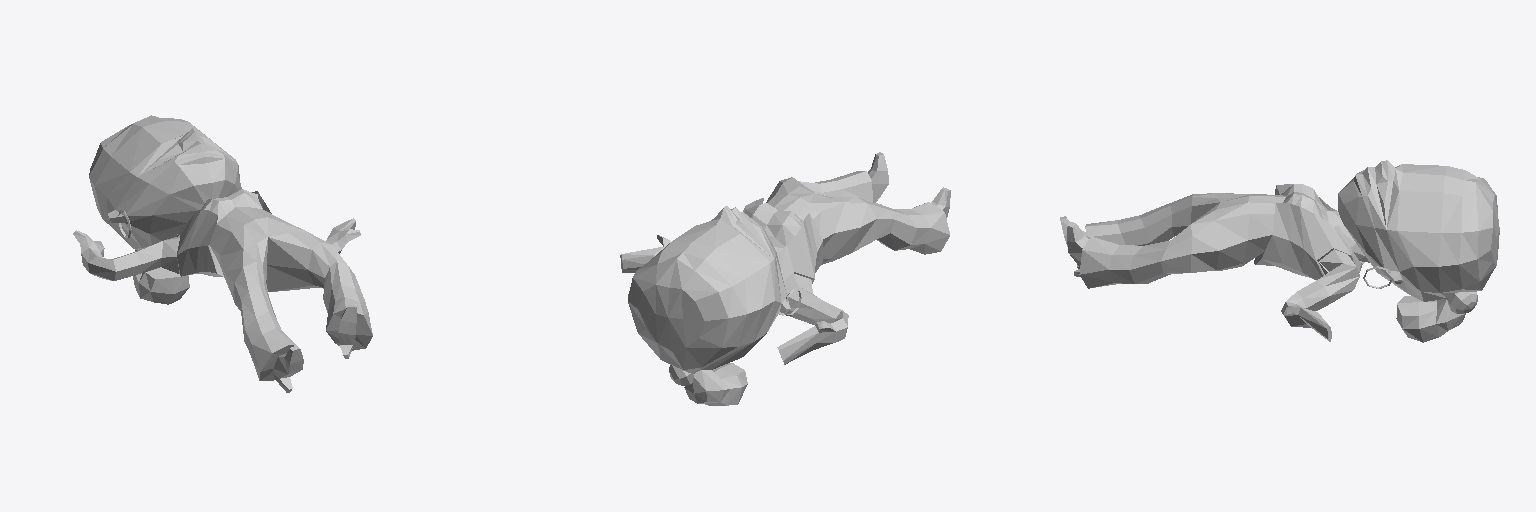
Rendered from bailarina_000220.obj.
The picture shows the model from 3 angles: view 1: azimuth 30°, elevation 25°; view 2: azimuth 150°, elevation 25°; view 3: azimuth 270°, elevation 25°; orthographic projection.
Parts seen in each view (by area): view 1: bAilarina:Mesh; view 2: bAilarina:Mesh; view 3: bAilarina:Mesh.
Boxes of the visible parts, x1=… form: bAilarina:Mesh: x1=73, y1=115, x2=372, y2=392; bAilarina:Mesh: x1=620, y1=152, x2=950, y2=405; bAilarina:Mesh: x1=1060, y1=160, x2=1499, y2=342.
Size of the model in its own units: 11.06 by 7.76 by 16.99.